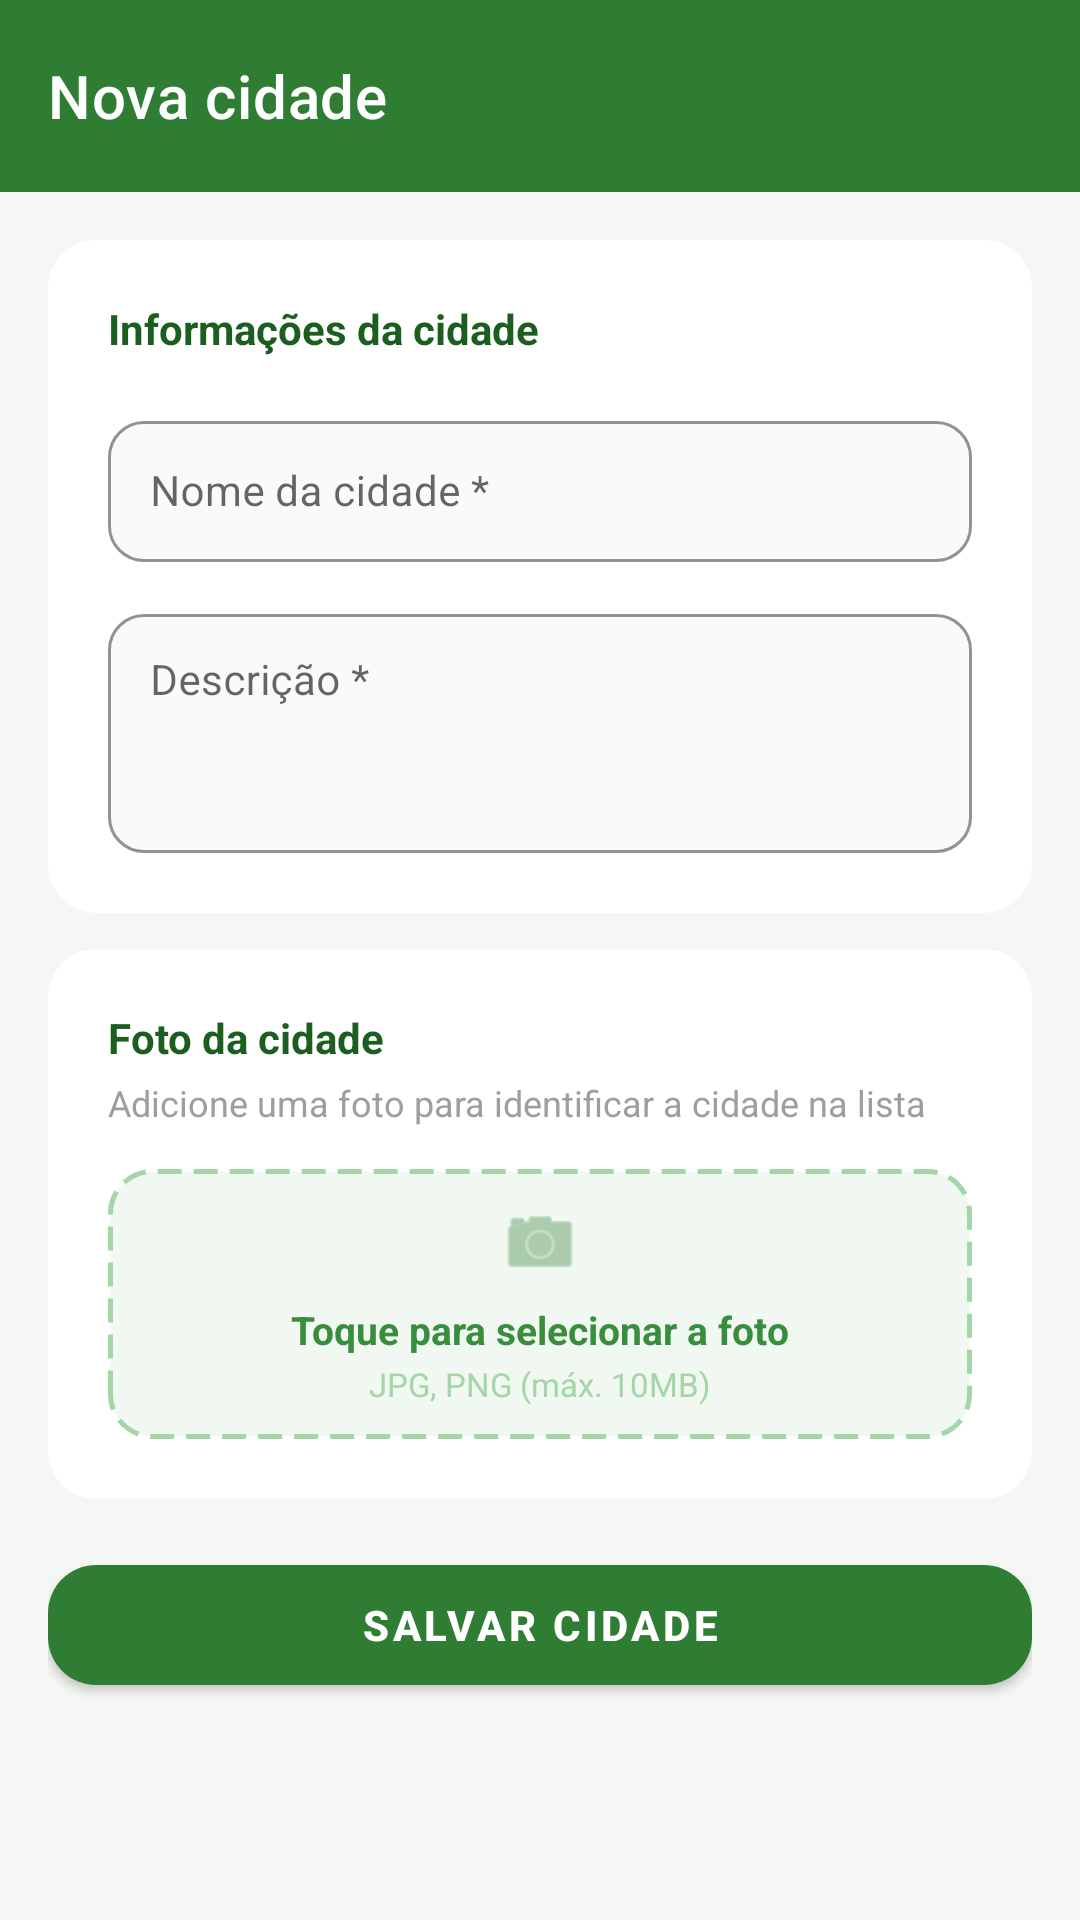

Icon bounding boxes for this 1080px x 1920px phone screenshot, format box(x1, y1, x2, y2):
camera: box(508, 1216, 572, 1267)
